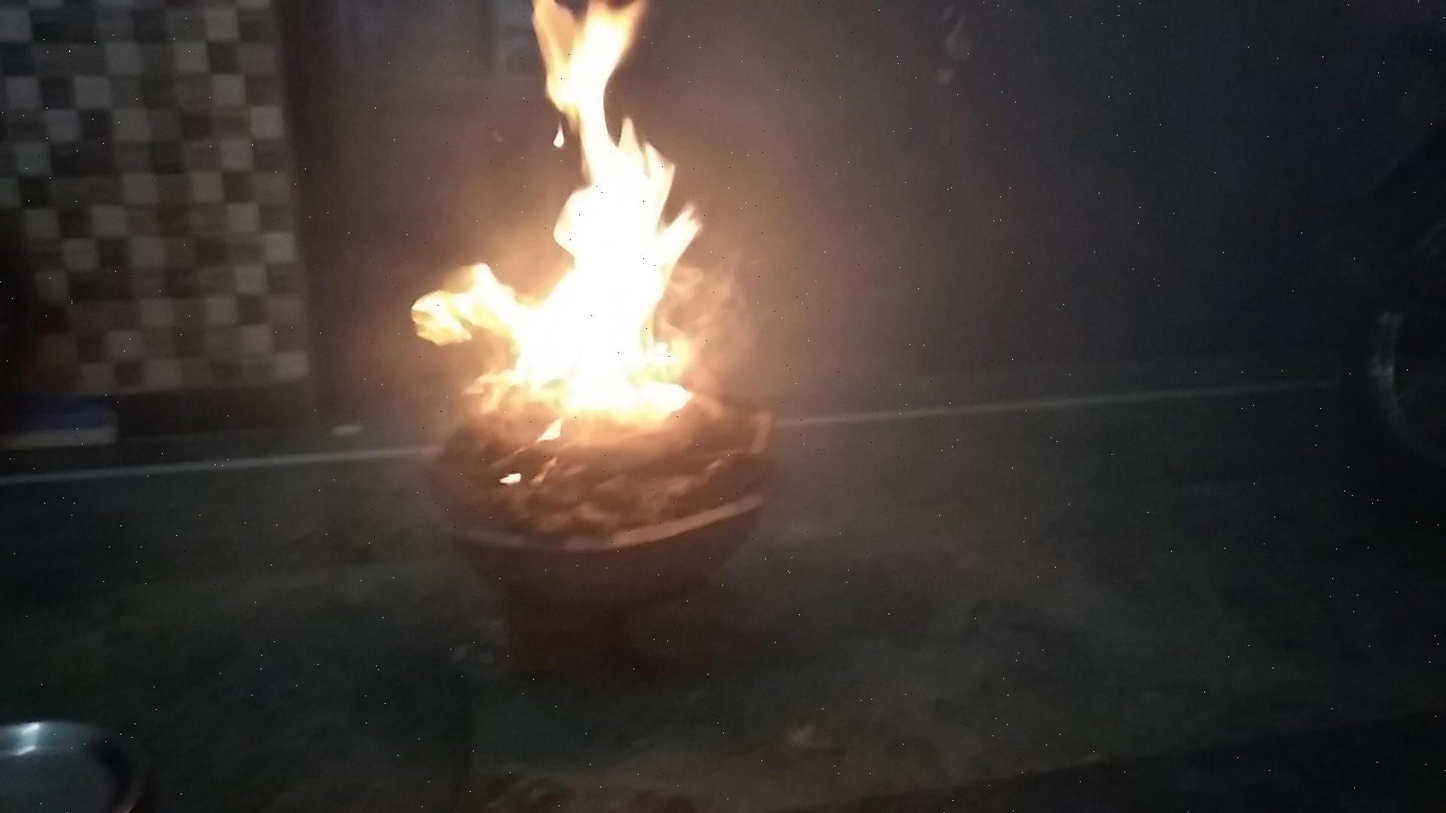fire: (393, 5, 746, 452)
